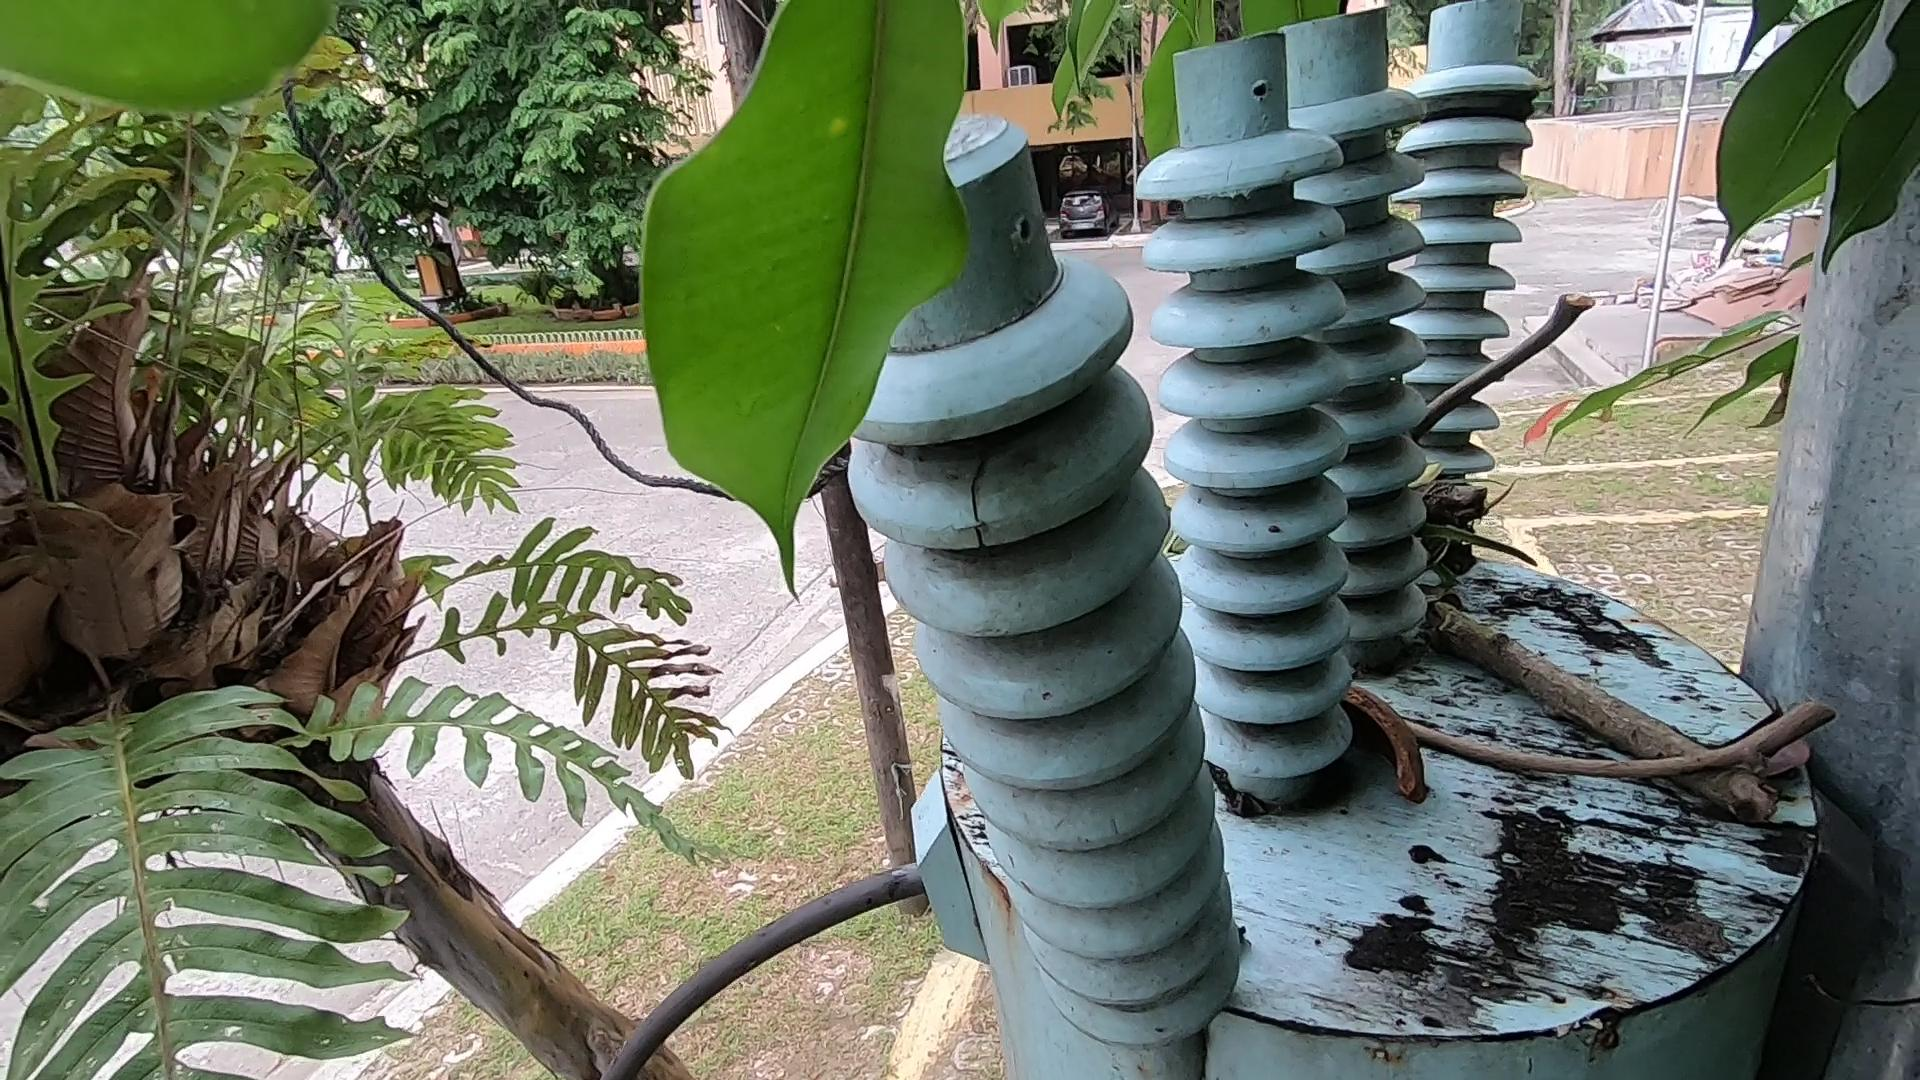branch with leaves: (1389, 425, 1816, 873)
leaf: (1756, 617, 1822, 832)
mahogany fruit: (1302, 655, 1439, 815)
tree branch: (1393, 194, 1679, 476), (1378, 719, 1920, 823)
